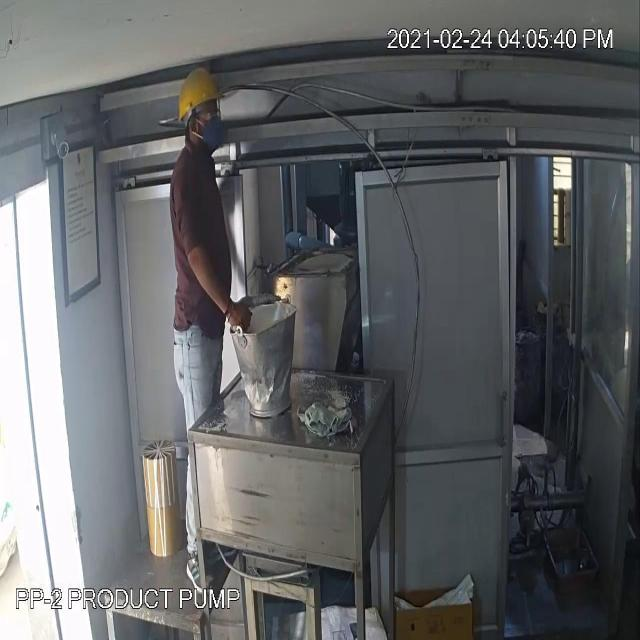helmet: (177, 55, 225, 134)
